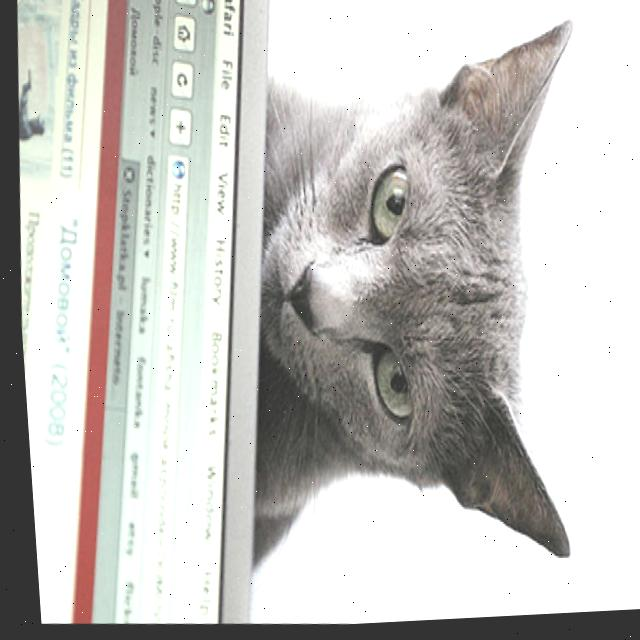Russian Blue: (205, 2, 610, 605)
